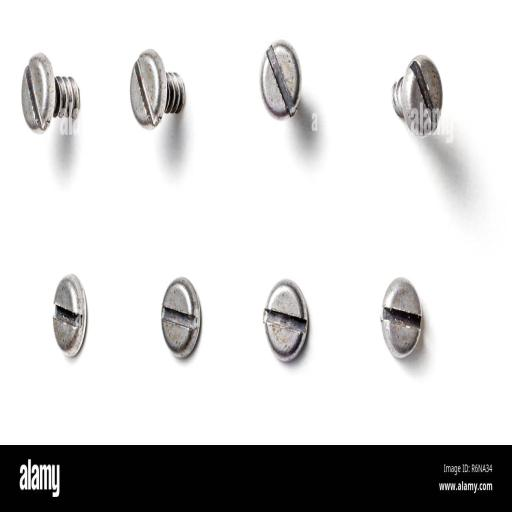Slotted: (263, 282, 310, 364), (402, 54, 443, 138), (380, 278, 420, 363), (128, 47, 168, 131), (163, 273, 198, 363), (261, 41, 299, 121)
